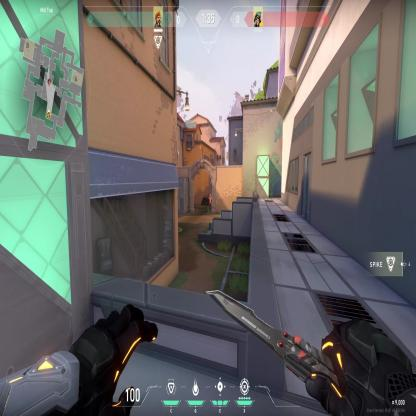enemy: (207, 192, 212, 213)
